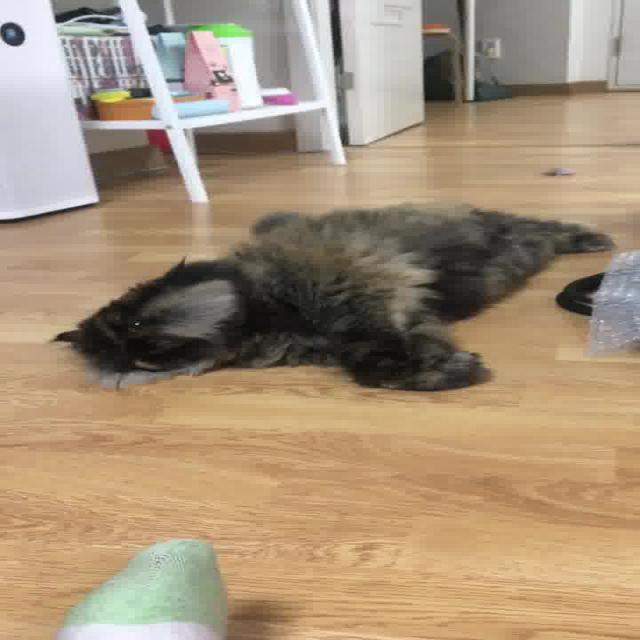cat: (49, 194, 618, 394)
